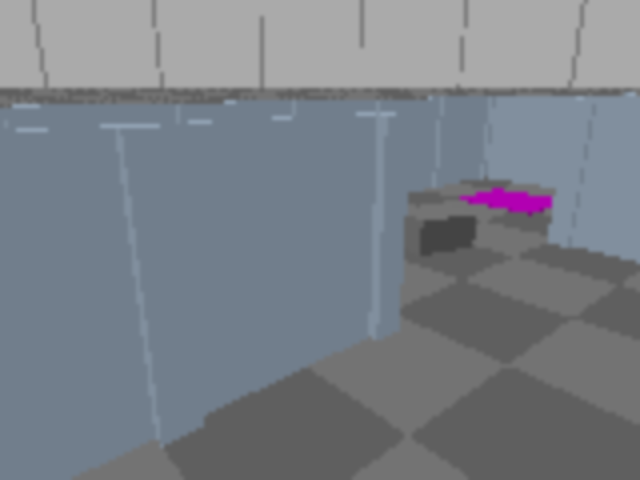goal_zone: (457, 189, 566, 215)
